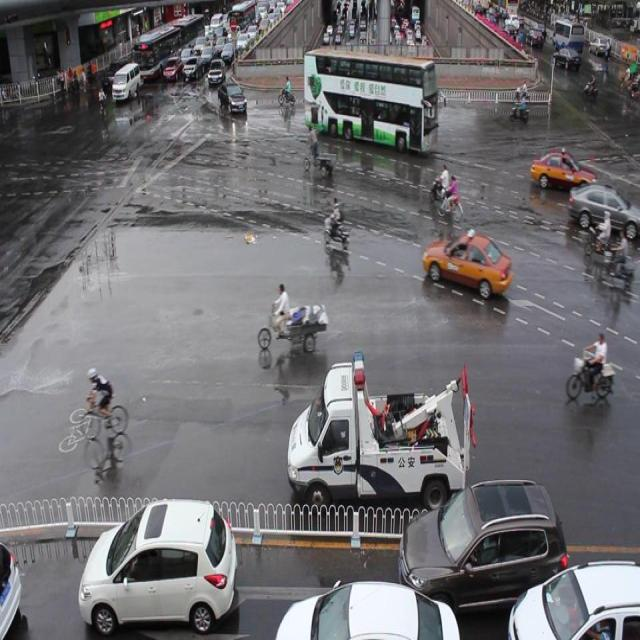bus: (287, 352, 473, 518)
car: (399, 482, 568, 627), (80, 499, 234, 627), (276, 582, 460, 640), (508, 560, 640, 640), (422, 231, 512, 301), (568, 183, 640, 238), (529, 149, 595, 191), (1, 539, 23, 640), (218, 81, 248, 112)
van: (301, 48, 436, 155)
